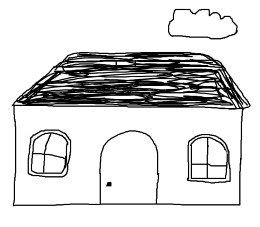closed_window: (181, 126, 235, 188), (23, 127, 76, 180)
clouds: (165, 5, 241, 43)
door: (96, 127, 164, 210)
shaded_roof: (6, 45, 253, 112)
wall: (8, 102, 248, 210)
